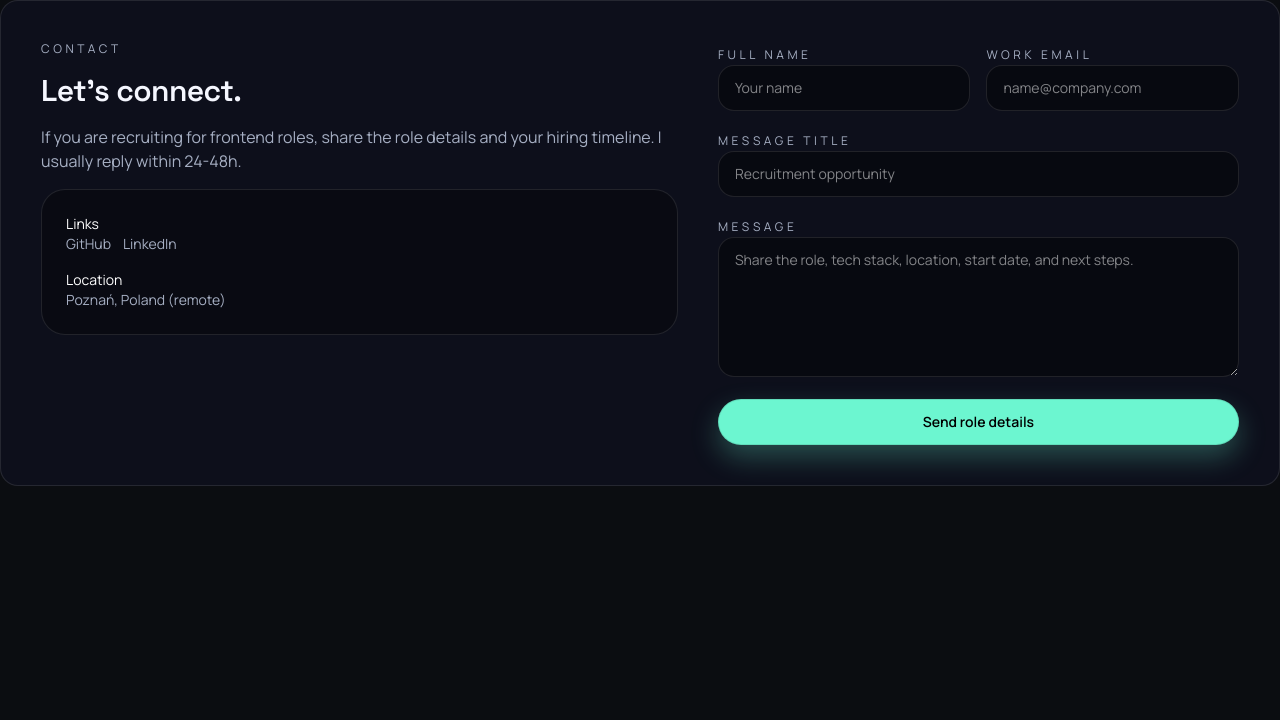
it: Contact › validation errors › shows error when name is too short
Type "J" into the field with placeholder "Your name" at (844, 88), box [718,65,970,111]
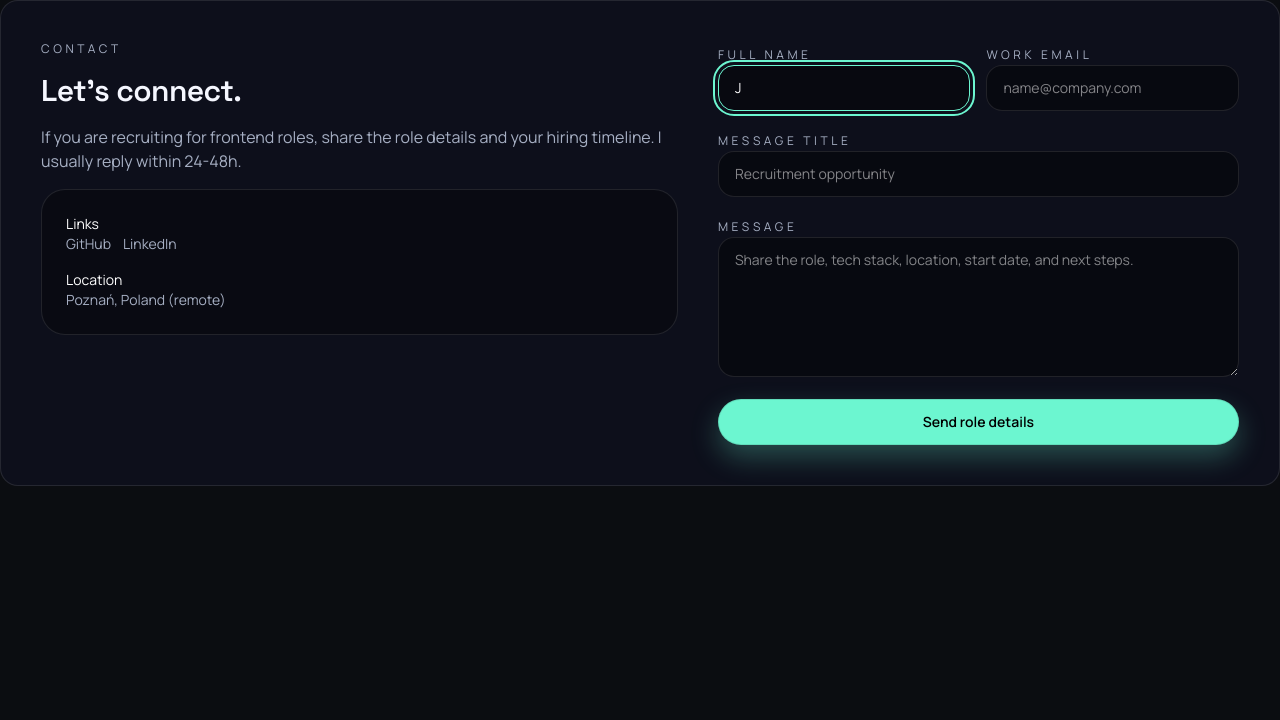
Type "jane@company.com" into the field with placeholder "name@company.com" at (1113, 88), box [986,65,1239,111]
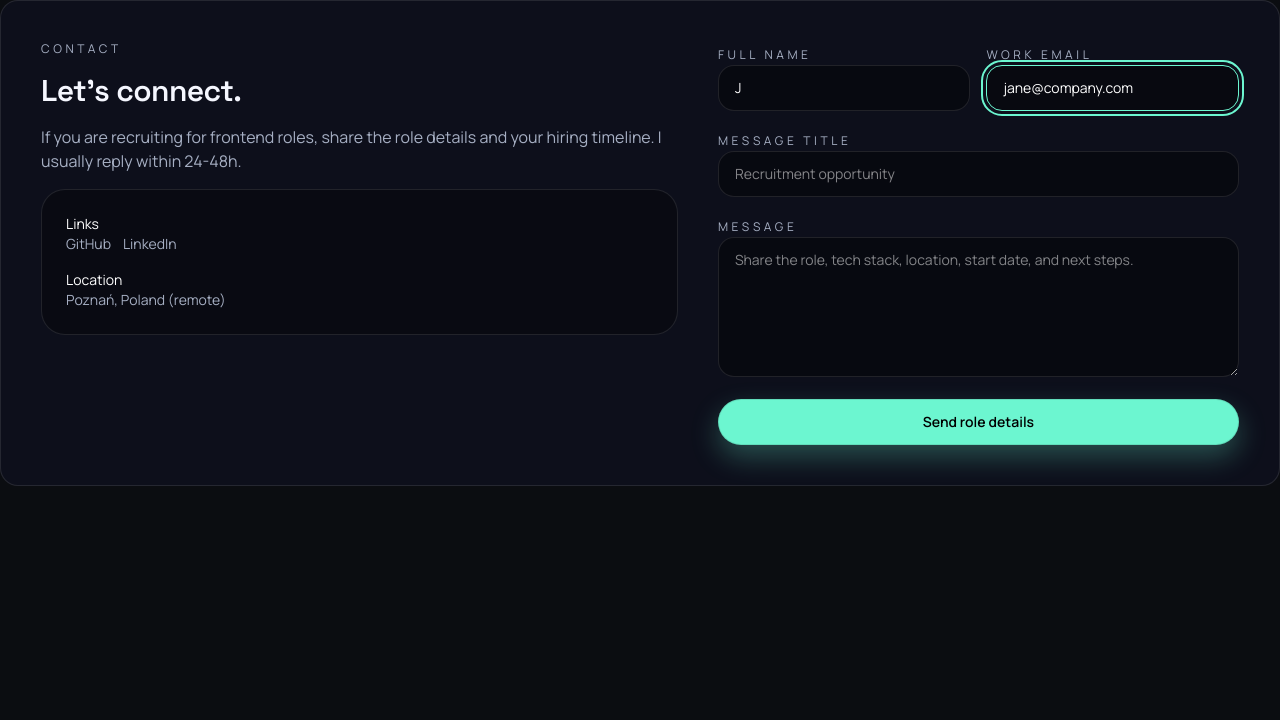
Type "This is a valid message body." into the text box with placeholder "Share the role" at (978, 307), box [718,237,1239,377]
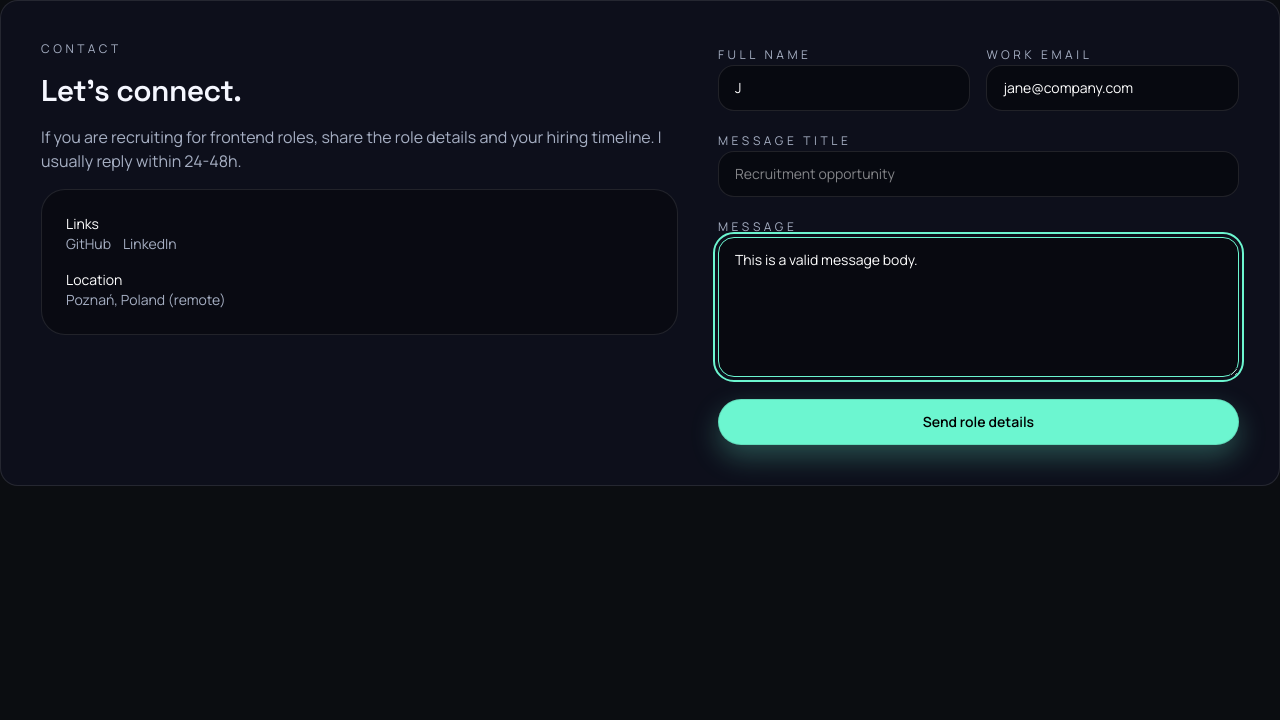
Click the button "Send role details" at (978, 422), box [718,399,1239,445]
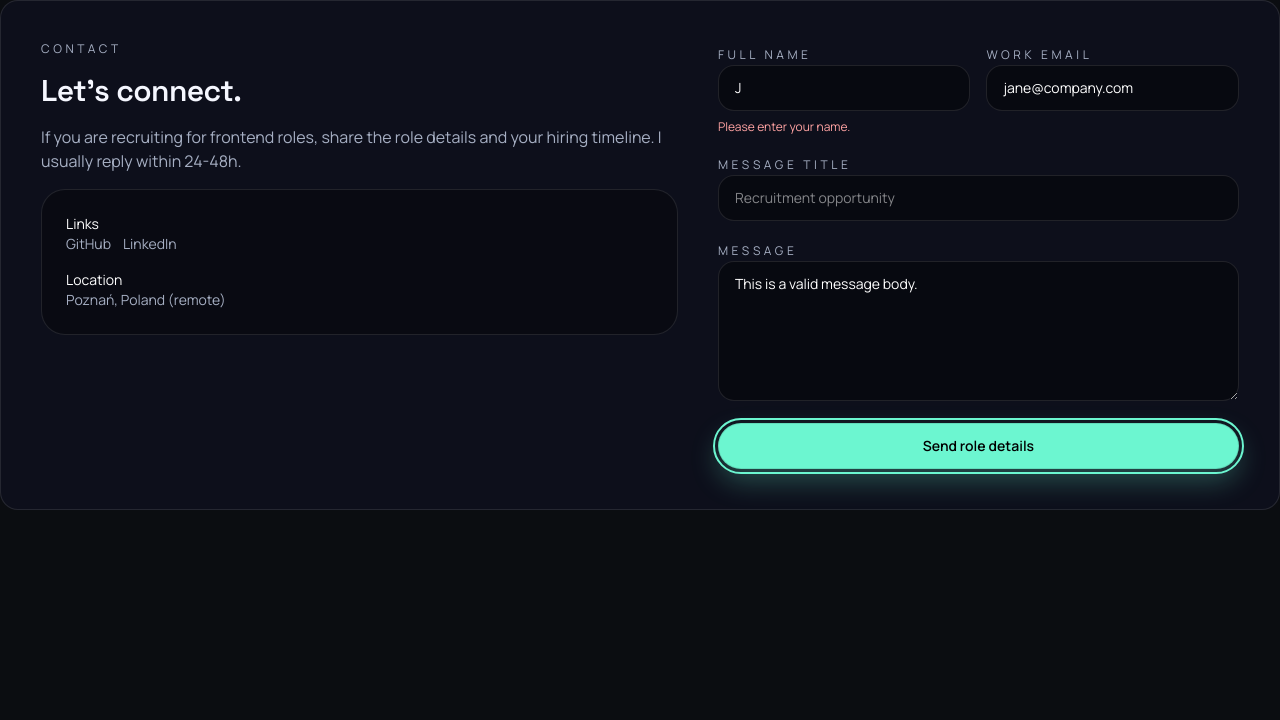
expect the text "Please enter your name." is shown: met, box [718,118,850,135]
